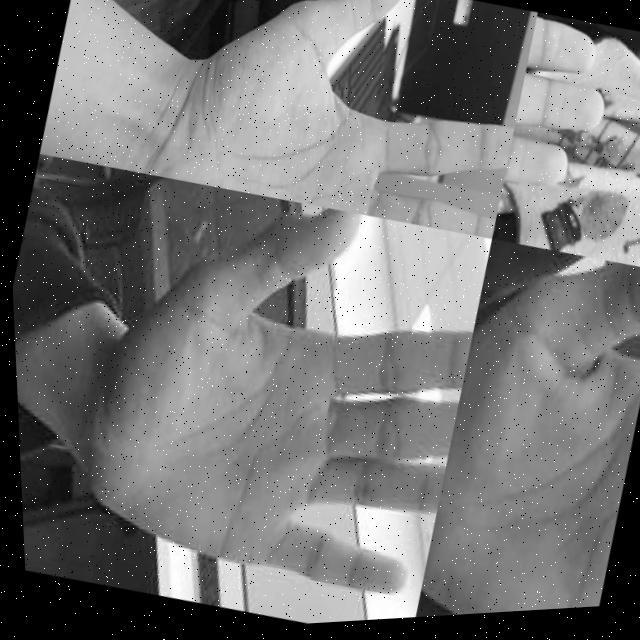no-gloves: (49, 158, 501, 630), (115, 0, 543, 262), (388, 238, 640, 622), (480, 15, 630, 266)
